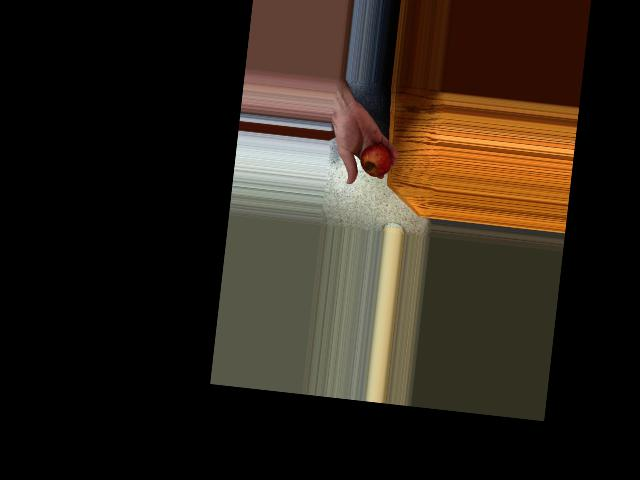apple: (358, 136, 395, 180)
